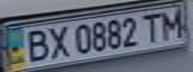0: (72, 20, 93, 55)
2: (118, 15, 142, 47)
8: (106, 16, 127, 51), (90, 19, 109, 52)
B: (18, 27, 51, 63)
M: (157, 7, 190, 39)
T: (139, 11, 166, 43)
X: (45, 24, 72, 60)
